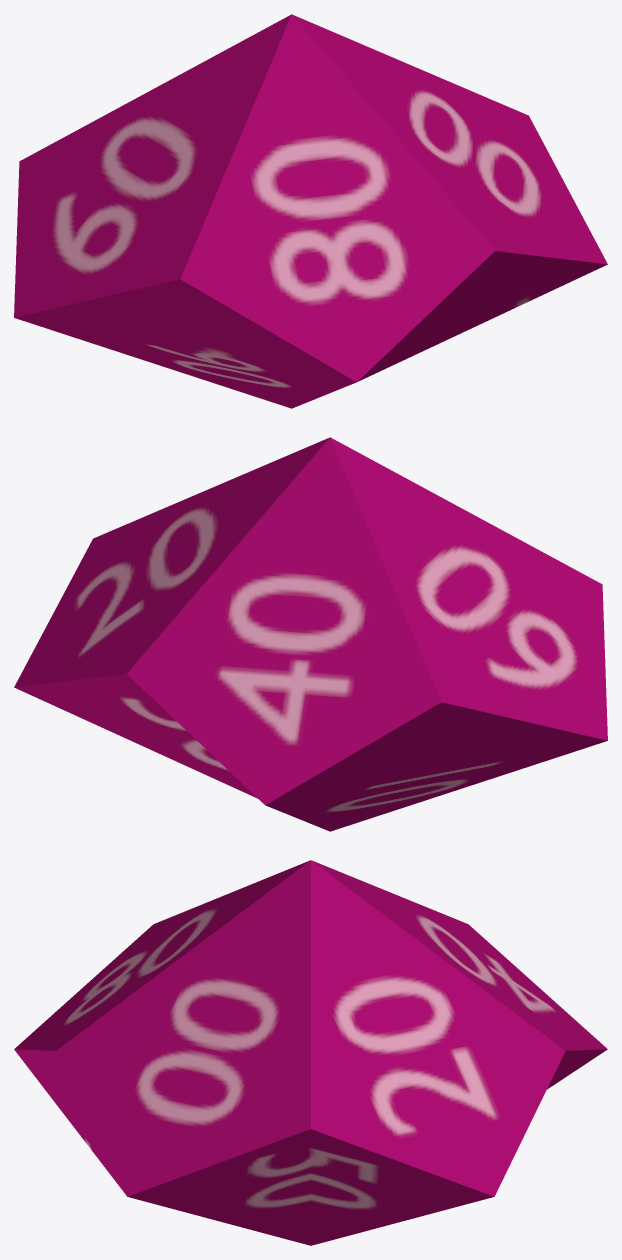
The picture shows the model from 3 angles, top to bottom: view 1: azimuth 30°, elevation 25°; view 2: azimuth 150°, elevation 25°; view 3: azimuth 270°, elevation 25°; orthographic projection. The views are drawn at different scales.
Visible parts, largest first — view 1: Icosphere; view 2: Icosphere; view 3: Icosphere.
Part boxes in pixels (x1,y1,x2,y2): Icosphere: (14,14,607,408); Icosphere: (14,437,607,831); Icosphere: (14,860,607,1245).
Bounding box in the file's own units: 1.94 × 1.42 × 1.98.
Materials: 1 (1 with a texture image).
